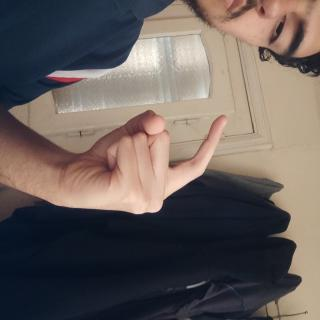RAA: (79, 119, 161, 320)
